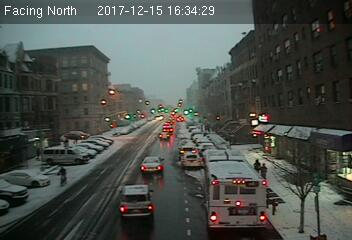bus: (204, 149, 268, 232)
car: (116, 183, 155, 219), (140, 156, 164, 172), (181, 152, 202, 168), (158, 132, 169, 139)
pedestrian: (260, 160, 266, 179)
